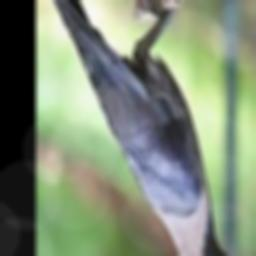Crow: (41, 0, 254, 256)
